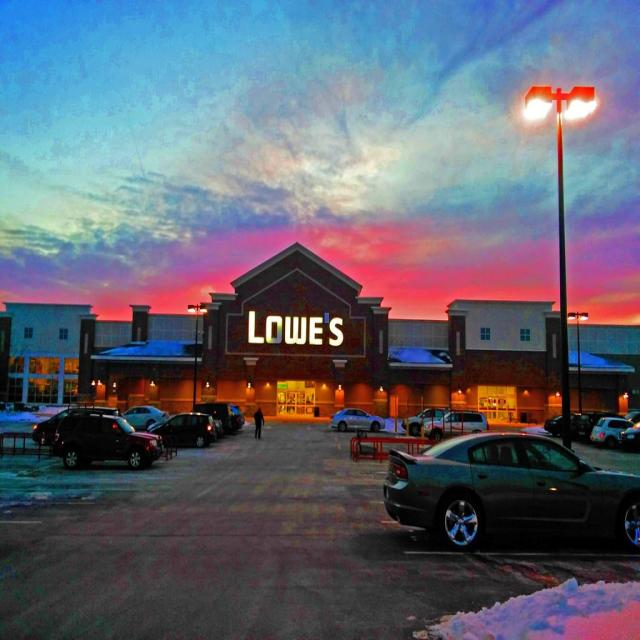car: (47, 410, 170, 469), (585, 407, 633, 448), (331, 399, 386, 434), (331, 404, 367, 430)
